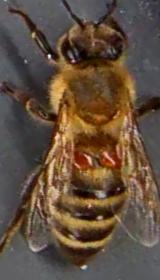varroa_mite: (95, 146, 123, 170), (70, 148, 98, 170)
